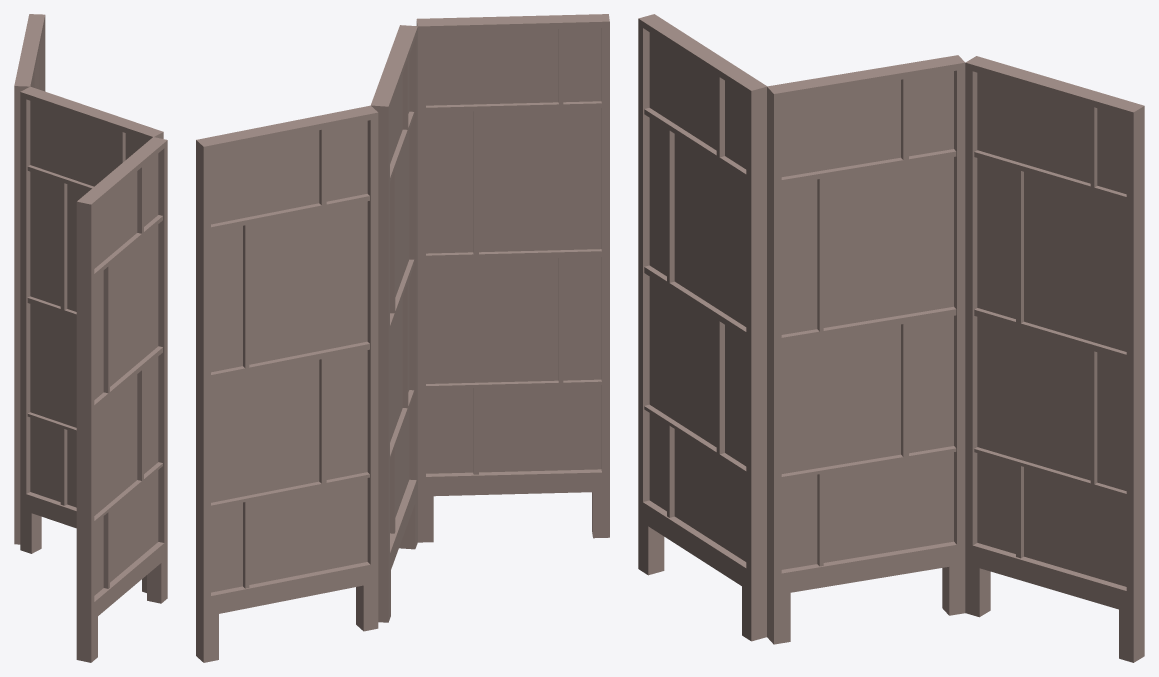
File: RoomDivider.fbx
3 views of the same model, side by side, from view 1: azimuth 30°, elevation 25°; view 2: azimuth 150°, elevation 25°; view 3: azimuth 270°, elevation 25° (orthographic). The views are drawn at different scales.
Parts seen in each view (by area): view 1: pasted__pasted__pCube6, pasted__pCube6, pCube6; view 2: pasted__pasted__pCube6, pCube6, pasted__pCube6; view 3: pasted__pCube6, pCube6, pasted__pasted__pCube6.
Part boxes in pixels (box(x1,y1,x2,y2)): pasted__pasted__pCube6: box(76, 137, 167, 662); pasted__pCube6: box(20, 86, 163, 592); pCube6: box(14, 14, 45, 544); pasted__pasted__pCube6: box(416, 14, 609, 542); pCube6: box(196, 105, 378, 662); pasted__pCube6: box(370, 25, 417, 622); pasted__pCube6: box(767, 55, 965, 644); pCube6: box(965, 56, 1144, 662); pasted__pasted__pCube6: box(638, 14, 766, 641).
Bounding box in the file's own units: 5.64 × 14.7 × 12.25.
